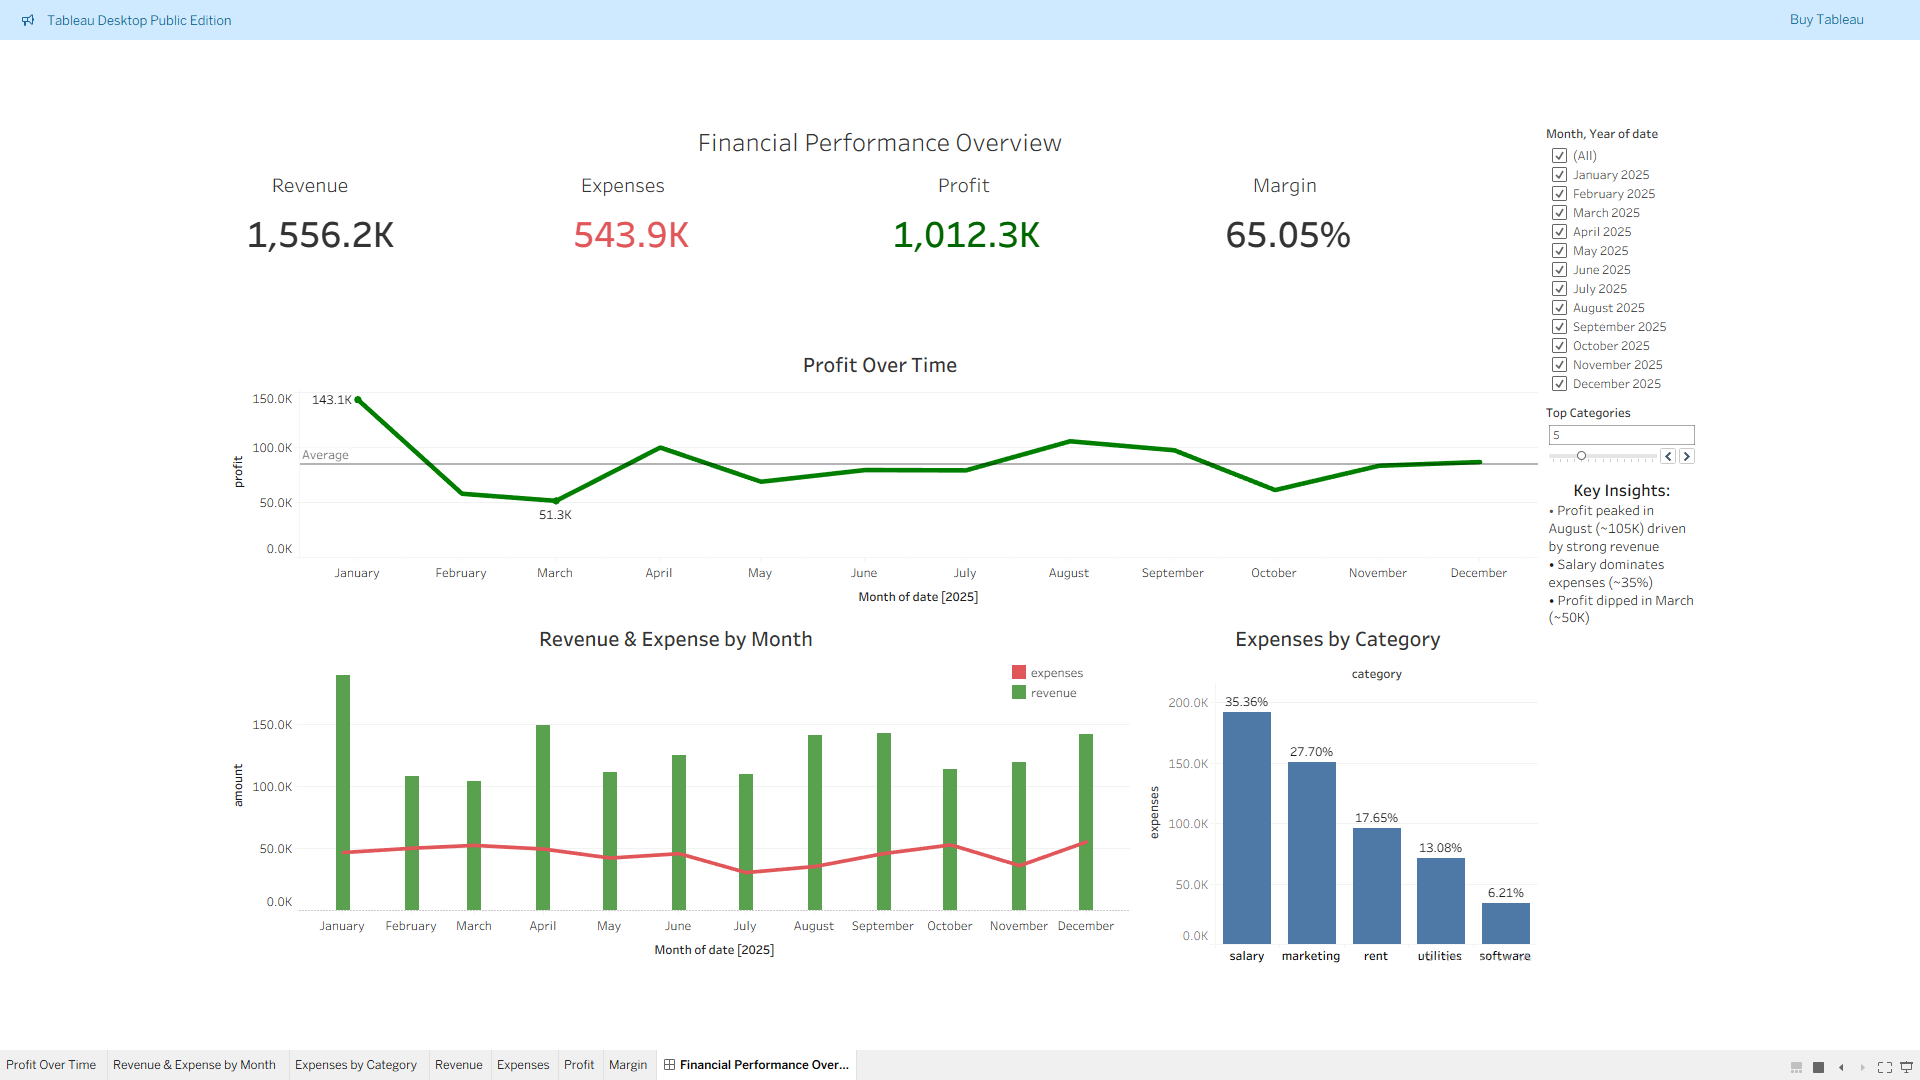

This screenshot's page, from the dashboard's own definition file:
{"tool":"tableau","page":{"name":"Financial Performance Overview","canvas":[1500,864],"ordinal":0},"visuals":[{"type":"title","box":[8,8,1324,42]},{"type":"filter","title":"Profit Over Time","param":"[federated.1xg2fov0wt0sbm15hp1cn06draaj].[my:date:ok]","box":[1332,8,160,279]},{"type":"worksheet","title":"Revenue","mark":"Automatic","box":[8,50,331,179]},{"type":"worksheet","title":"Expenses","mark":"Automatic","box":[339,50,331,179]},{"type":"worksheet","title":"Profit","mark":"Automatic","box":[670,50,331,179]},{"type":"worksheet","title":"Margin","mark":"Automatic","box":[1001,50,331,179]},{"type":"worksheet","title":"Profit Over Time","mark":"Line","rows":["Calculation_330451680514924546"],"cols":["date"],"box":[8,229.5,1324,274]},{"type":"parameter","param":"[Parameters].[Parameter 1]","box":[1332,287,160,75]},{"type":"text","box":[1332,362,160,156]},{"type":"worksheet","title":"Revenue & Expense by Month","mark":"Automatic","rows":["Calculation_330451680513204224","Calculation_330451680513531905"],"cols":["date"],"box":[8,503.5,916,352.5]},{"type":"worksheet","title":"Expenses by Category","mark":"Automatic","rows":["Calculation_330451680513531905"],"cols":["category"],"box":[924,503.5,408,352.5]},{"type":"legend","title":"Revenue & Expense by Month","param":"[federated.1xg2fov0wt0sbm15hp1cn06draaj].[:Measure Names]","box":[799,531,109,58]}]}

Visuals, with their boxes on the page's 1500x864 design canvas (x1, y1, x2, y2). These are canvas units, not pixel positions in the 1920x1080 screenshot, which may show the page scaled, cropped or inside an application window:
title: [8, 8, 1332, 50]
"Profit Over Time" filter: [1332, 8, 1492, 287]
"Revenue" worksheet: [8, 50, 339, 229]
"Expenses" worksheet: [339, 50, 670, 229]
"Profit" worksheet: [670, 50, 1001, 229]
"Margin" worksheet: [1001, 50, 1332, 229]
"Profit Over Time" worksheet (Line marks): [8, 230, 1332, 504]
parameter: [1332, 287, 1492, 362]
text: [1332, 362, 1492, 518]
"Revenue & Expense by Month" worksheet: [8, 504, 924, 856]
"Expenses by Category" worksheet: [924, 504, 1332, 856]
"Revenue & Expense by Month" legend: [799, 531, 908, 589]
